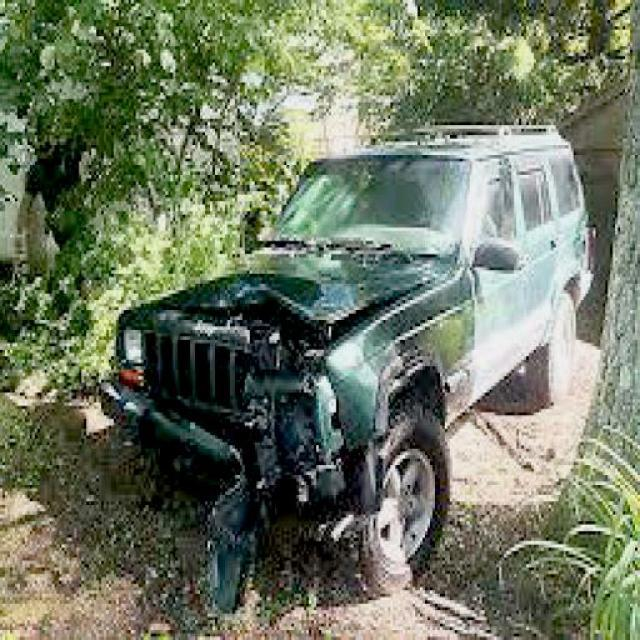Car-Damage: (153, 281, 399, 615)
